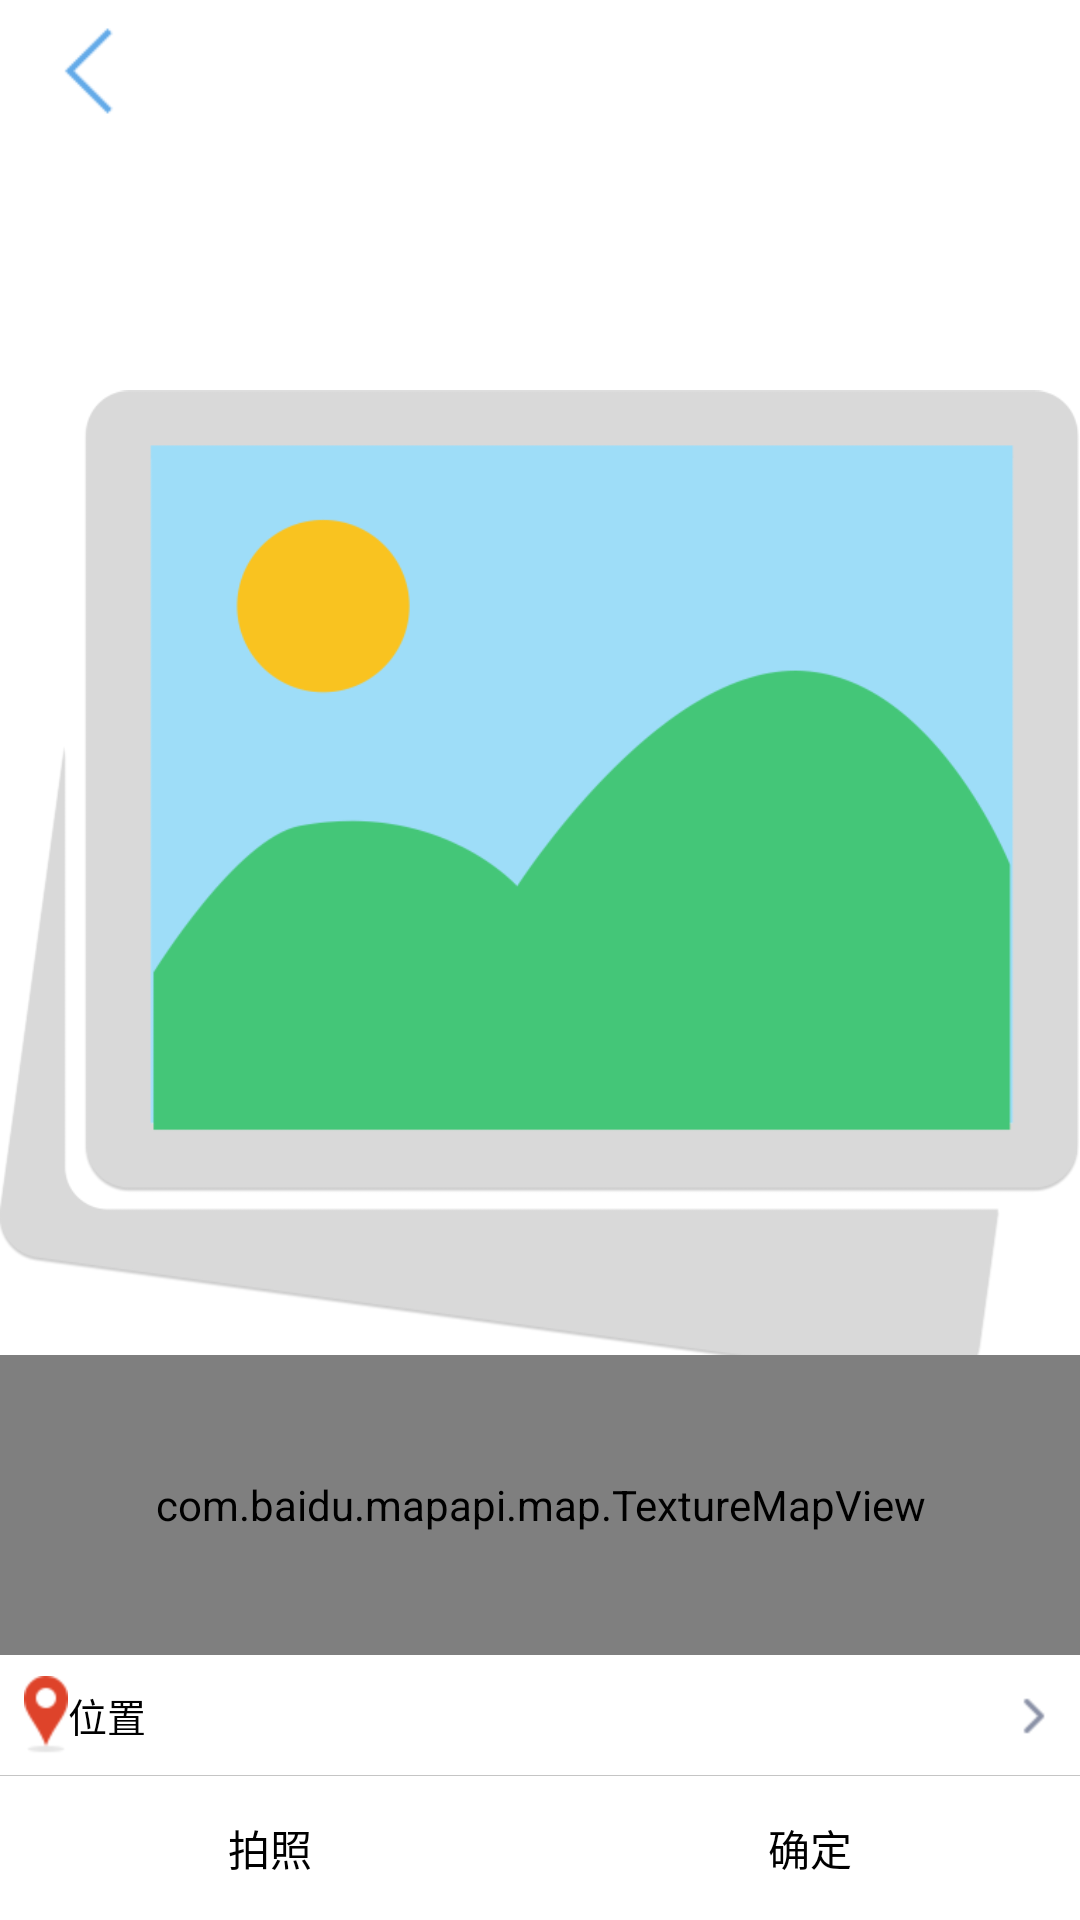

Where icons sit on this 1080x1920 app screen, as bbox(x1, y1, x2, y2):
back: bbox(65, 28, 112, 114)
